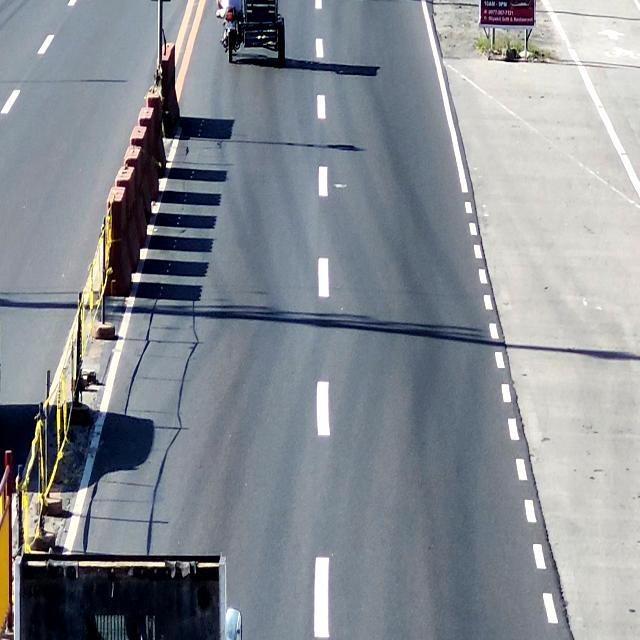Tricycle: (217, 0, 292, 64)
Truck: (5, 522, 246, 640)
